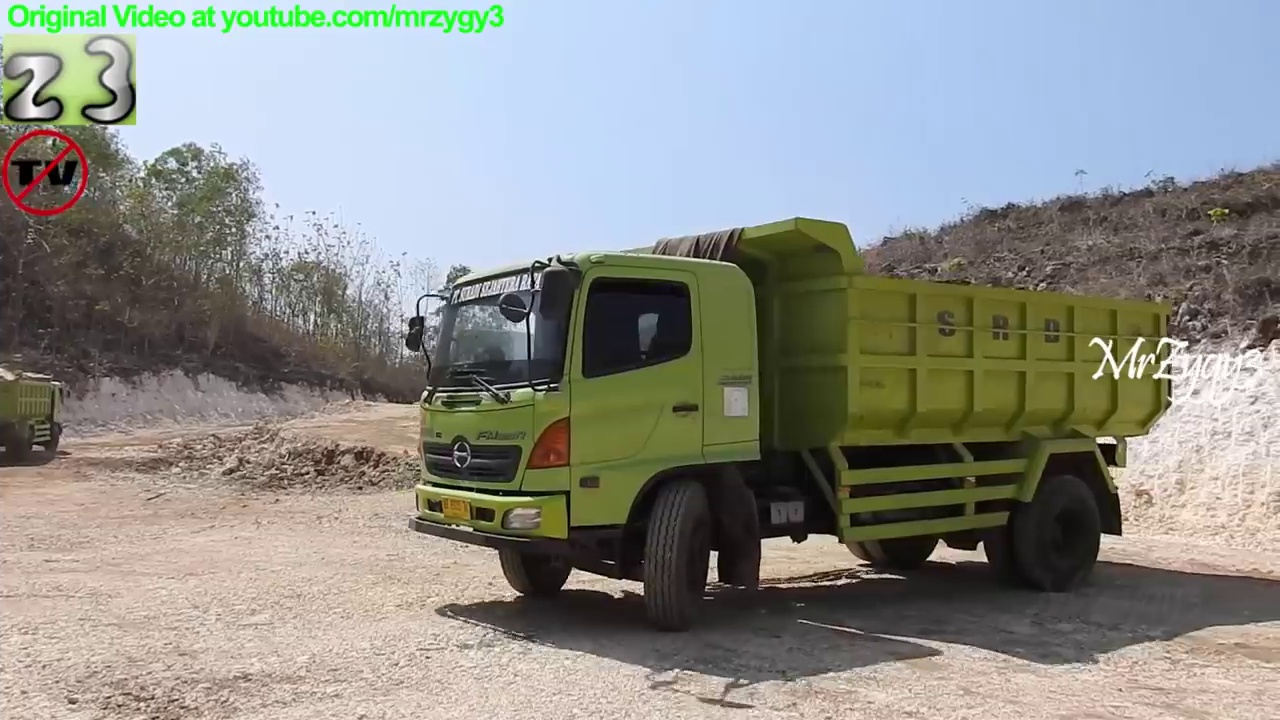truck: (398, 209, 1182, 636), (1, 367, 75, 469)
